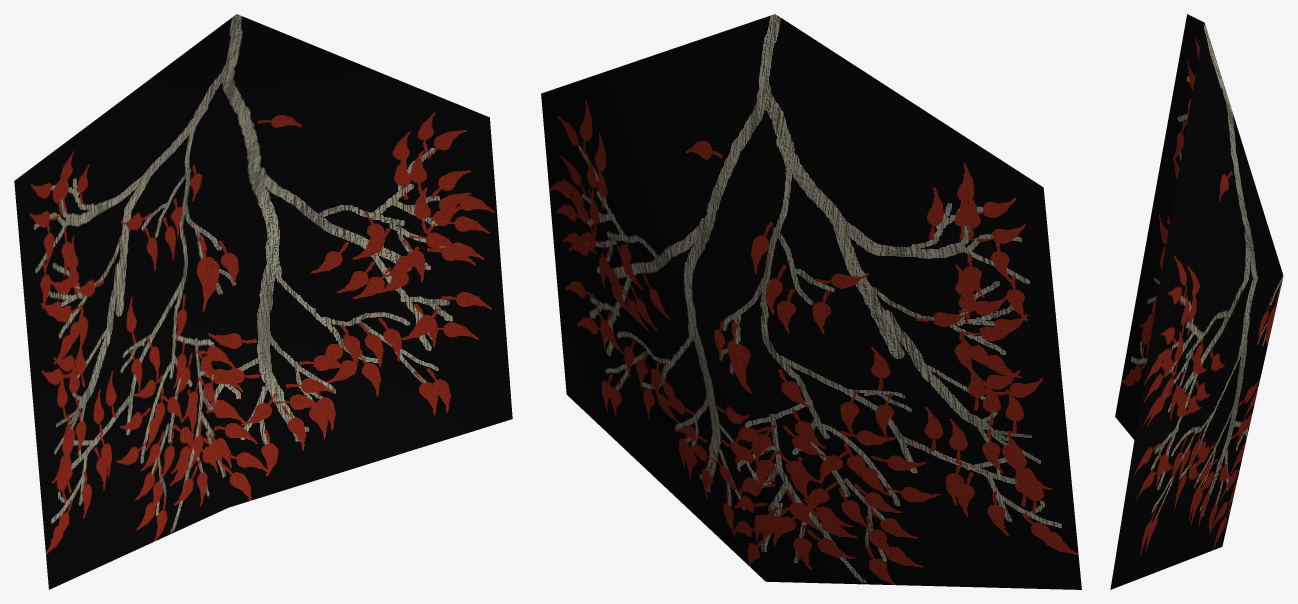
Rendered from LeafMesh3.fbx.
3 renders of one model, left to right at view 1: azimuth 30°, elevation 25°; view 2: azimuth 150°, elevation 25°; view 3: azimuth 270°, elevation 25°, orthographic. The views are drawn at different scales.
Parts seen in each view (by area): view 1: LeafMesh1; view 2: LeafMesh1; view 3: LeafMesh1.
Part boxes in pixels (x1,y1,x2,y2): LeafMesh1: (14,14,512,589); LeafMesh1: (541,14,1081,589); LeafMesh1: (1110,14,1283,589).
Size of the model in its own units: 2 by 2.07 by 0.6195.
